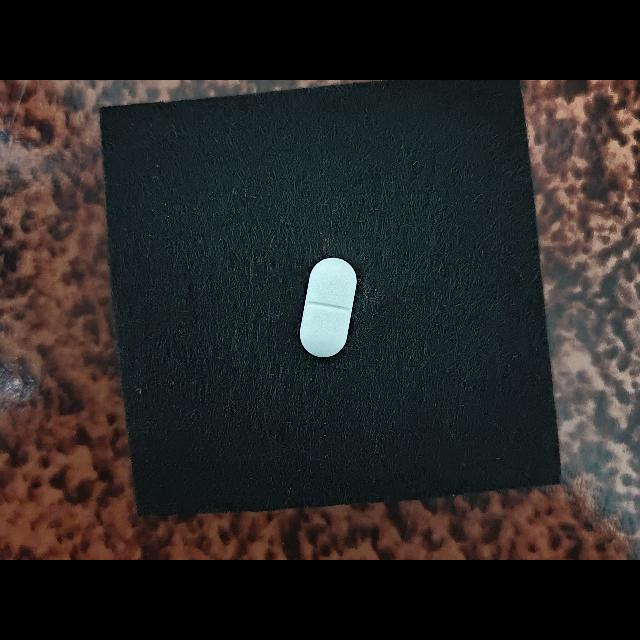Intact Pill: (300, 257, 357, 358)
